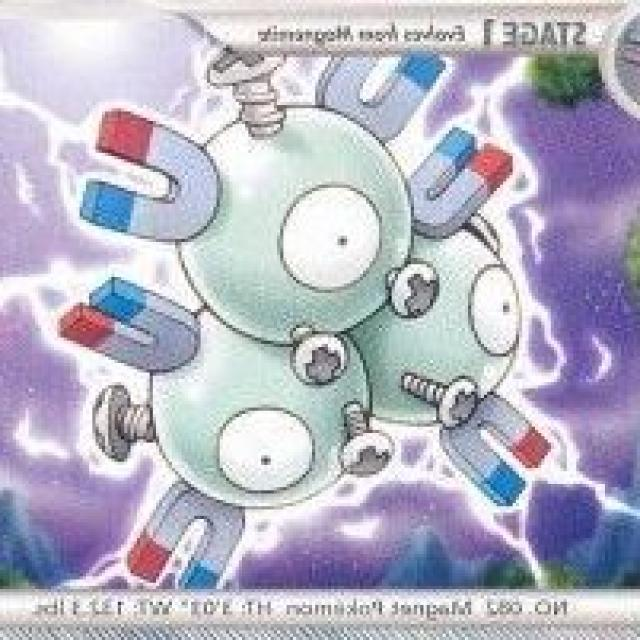Magneton: (99, 45, 547, 517)
